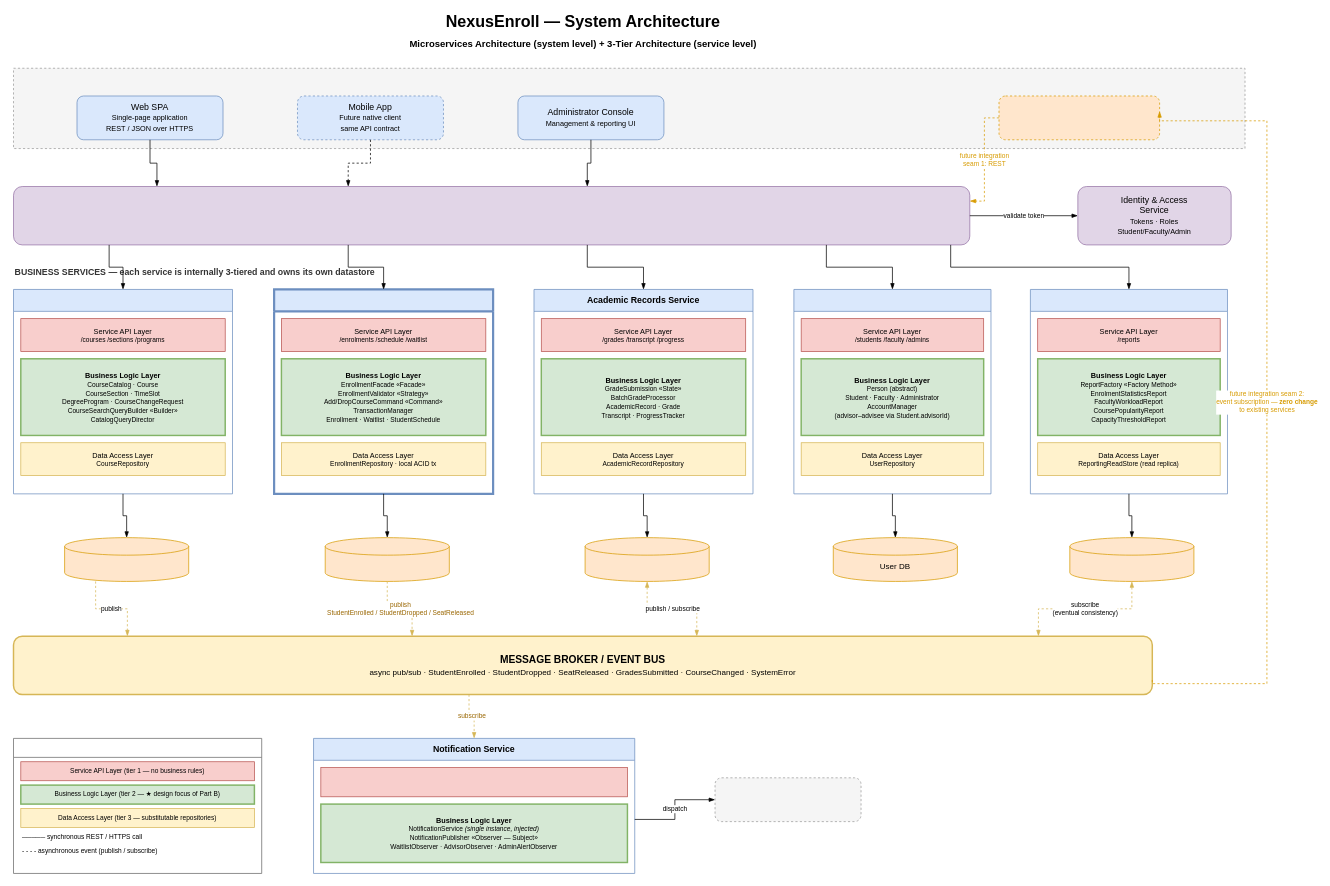
Image size: 1330x886. Some labels were removed from this diagram. The box of each missing label's shape, as (x1, y1, x2, y2) in pixels:
API GATEWAY single entry point · auth · rate limiting · routing: (13, 186, 970, 245)
Course Catalogue Service: (13, 289, 233, 494)
Course DB: (64, 537, 189, 581)
Email / SMS Gateway EXTERNAL: (714, 777, 861, 822)
Enrolment DB: (324, 537, 449, 581)
Enrolment Service ★ transactional core: (273, 288, 494, 495)
Event Subscriber Layer consumes domain events from the broker: (320, 767, 627, 797)
Financial Aid System FUTURE EXTERNAL SYSTEM integrates with zero changes: (998, 95, 1160, 140)
Legend: (13, 738, 262, 873)
PRESENTATION TIER (out of detailed-design scope): (13, 68, 1245, 149)
Read Replica analytics-optimised: (1069, 537, 1194, 581)
Records DB: (584, 537, 709, 581)
Reporting & Analytics Service: (1030, 289, 1227, 494)
User Management Service: (793, 289, 991, 494)
